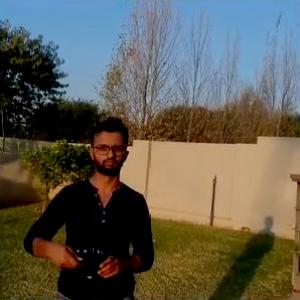follow: (18, 108, 156, 299)
